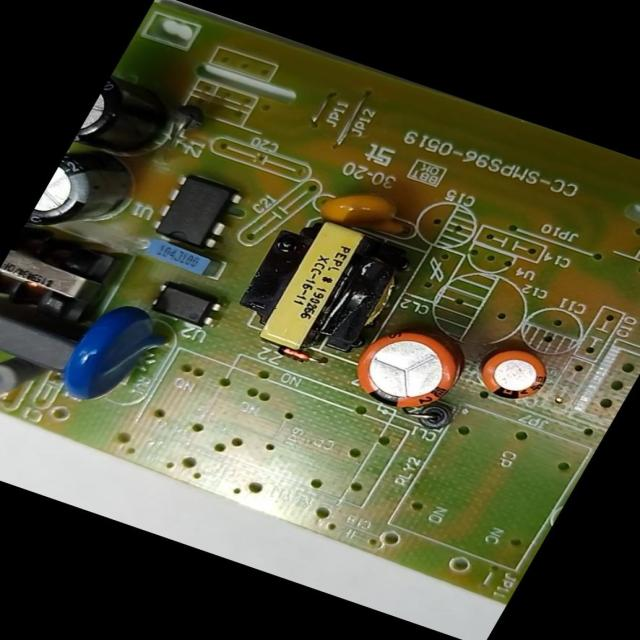Cap1: (334, 313, 481, 428)
Cap2: (462, 337, 560, 411)
Cap3: (24, 148, 152, 255)
Cap4: (70, 72, 194, 173)
MOSFET: (139, 165, 253, 257)
Mov: (46, 294, 182, 418)
Resistor: (0, 346, 56, 413)
Transformer: (220, 204, 424, 372), (0, 217, 134, 335)
